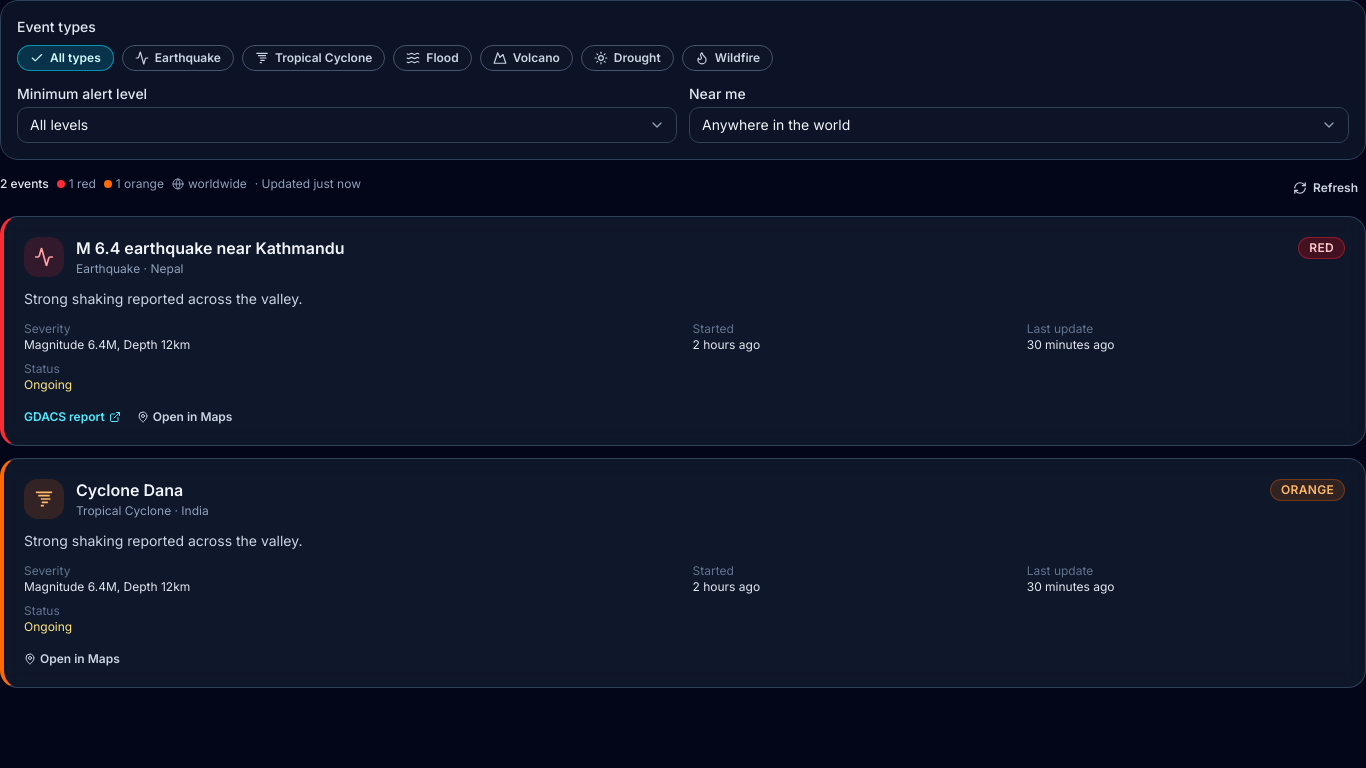
it: DisasterEventsPanel › falls back to the default location with a notice when location is denied
Later steps or results of the test are not shown.
expect the heading "Cyclone Dana" is shown: met, box [76, 480, 183, 500]
Select "Within 1,000 km" in the dropdown labelled "Near me" at (1019, 125), box [689, 107, 1349, 143]
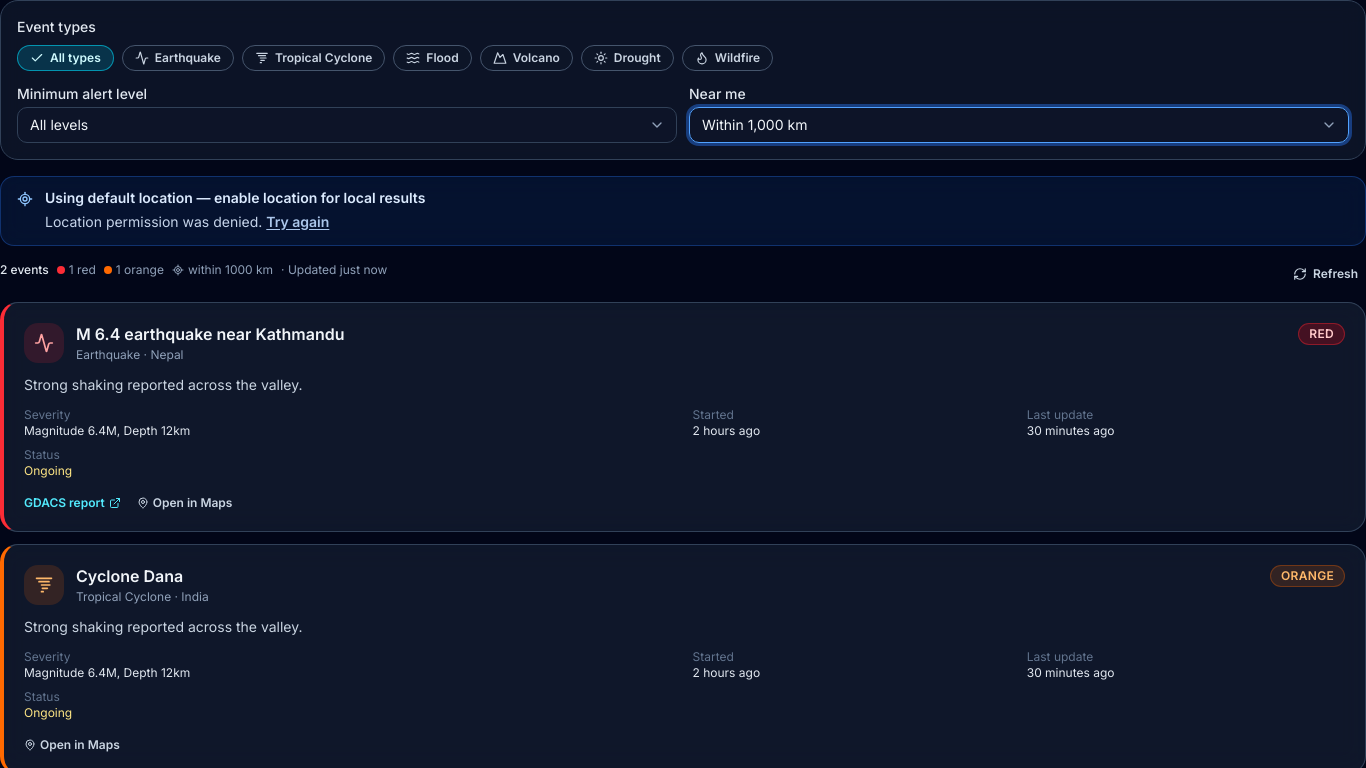
expect the text "Using default location — enable location for local results" is shown: met, box [45, 189, 425, 206]
